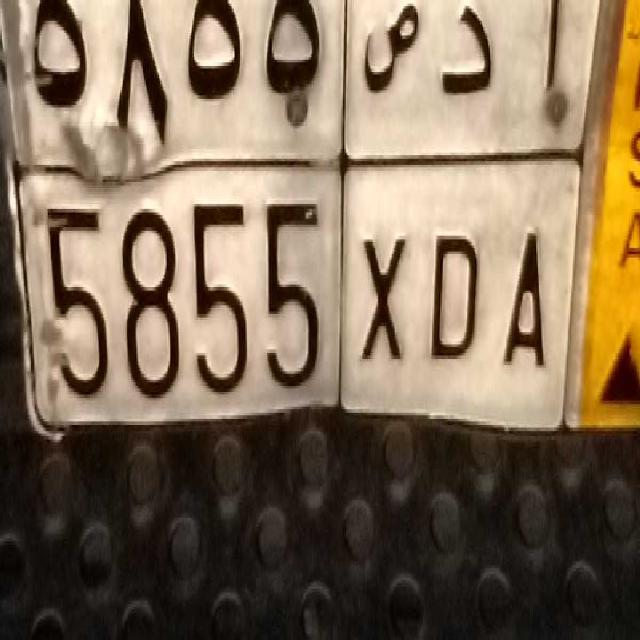license_plate: (24, 157, 562, 436)
